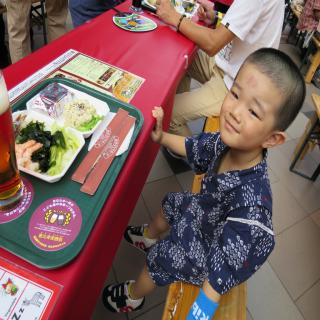Salad: (9, 116, 86, 174)
